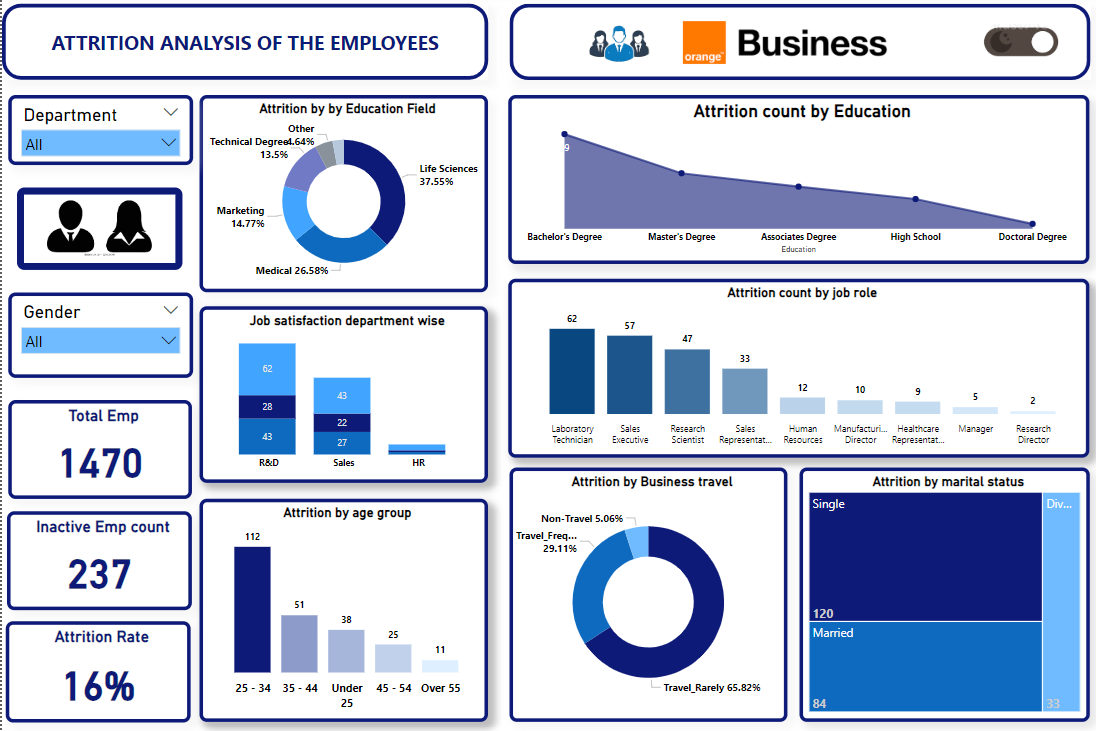

Layout of this report page (visuals, bound fields, positions):
{"tool":"powerbi","page":{"name":"Day mode","canvas":[1500,1000],"ordinal":2},"visuals":[{"type":"shape","box":[0,12.7,660.6,103.2],"z":0},{"type":"card","title":"Inactive Emp count","fields":{"Values":["HR data.total_inactive_emp"]},"box":[6.8,701.4,251.4,134.2],"z":1000},{"type":"card","title":"Total Emp","fields":{"Values":["HR data.total_emp"]},"box":[8.5,550.3,249.7,134.2],"z":2000},{"type":"card","title":"Attrition Rate","fields":{"Values":["HR data.Attrition_rate"]},"box":[5.1,850.9,251.4,137.6],"z":3000},{"type":"donutChart","title":"Attrition by by Education Field","fields":{"Category":["HR data.Education Field"],"Y":["HR data.total_inactive_emp"]},"box":[268.3,135.9,392.3,268.3],"z":4000},{"type":"slicer","fields":{"Values":["HR data.Department"]},"box":[8.4,135.7,251.3,95.5],"z":5000},{"type":"columnChart","title":"Attrition by age group","fields":{"Y":["HR data.total_inactive_emp"],"Category":["HR data.CF_age band"]},"box":[268.1,683.6,392.1,303.3],"z":6000},{"type":"lineChart","title":"Attrition count by Education","fields":{"Category":["HR data.Education"],"Y":["Sum(HR data.inactive_emp)"]},"box":[688.7,135.7,789.2,229.6],"z":7000},{"type":"slicer","fields":{"Values":["HR data.Gender"]},"box":[8.4,403.8,251.3,115.6],"z":8000},{"type":"columnChart","title":"Attrition count by job role","fields":{"Y":["Sum(HR data.inactive_emp)"],"Category":["HR data.Job Role"]},"box":[688.7,385.4,789.2,243],"z":9000},{"type":"donutChart","title":"Attrition by Business travel","fields":{"Category":["HR data.Business Travel"],"Y":["HR data.total_inactive_emp"]},"box":[688.9,641.3,377.6,345.3],"z":10000},{"type":"treemap","title":"Attrition by marital status ","fields":{"Values":["HR data.total_inactive_emp"],"Group":["HR data.Marital Status"]},"box":[1083.6,641.3,394.6,345.3],"z":11000},{"type":"shape","box":[688.9,11.9,789.3,103.8],"z":12000},{"type":"image","box":[916.9,30.6,299.4,68],"z":13000},{"type":"columnChart","title":"Job satisfaction department wise ","fields":{"Category":["HR data.Department"],"Y":["HR data.total_inactive_emp"],"Series":["HR data.job_sat"]},"box":[268.1,422.3,392.1,239.6],"z":14000},{"type":"image","box":[20.1,261.4,224.5,112.3],"z":15000},{"type":"image","box":[701.4,0,275.1,141],"z":16000},{"type":"image","box":[1311.1,22.1,144.4,83.2],"z":17000}]}

Visuals, with their boxes in screenshot pixels (x1, y1, x2, y2), scaled from the page's 1500x1000 canvas onto the 1102x731 screenshot:
shape: l=0, t=9, r=485, b=85
"Inactive Emp count" card: l=5, t=513, r=190, b=611
"Total Emp" card: l=6, t=402, r=190, b=500
"Attrition Rate" card: l=4, t=622, r=188, b=723
"Attrition by by Education Field" donutChart: l=197, t=99, r=485, b=295
slicer - HR data.Department: l=6, t=99, r=191, b=169
"Attrition by age group" columnChart: l=197, t=500, r=485, b=721
"Attrition count by Education" lineChart: l=506, t=99, r=1086, b=267
slicer - HR data.Gender: l=6, t=295, r=191, b=380
"Attrition count by job role" columnChart: l=506, t=282, r=1086, b=459
"Attrition by Business travel" donutChart: l=506, t=469, r=784, b=721
"Attrition by marital status " treemap: l=796, t=469, r=1086, b=721
shape: l=506, t=9, r=1086, b=85
image: l=674, t=22, r=894, b=72
"Job satisfaction department wise " columnChart: l=197, t=309, r=485, b=484
image: l=15, t=191, r=180, b=273
image: l=515, t=0, r=717, b=103
image: l=963, t=16, r=1069, b=77
